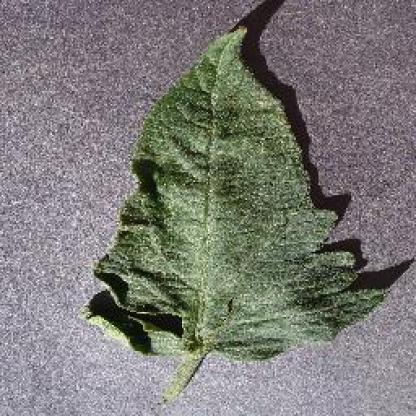bad leaf: (83, 182, 397, 365), (38, 225, 348, 409), (62, 84, 378, 253), (122, 16, 317, 125)
